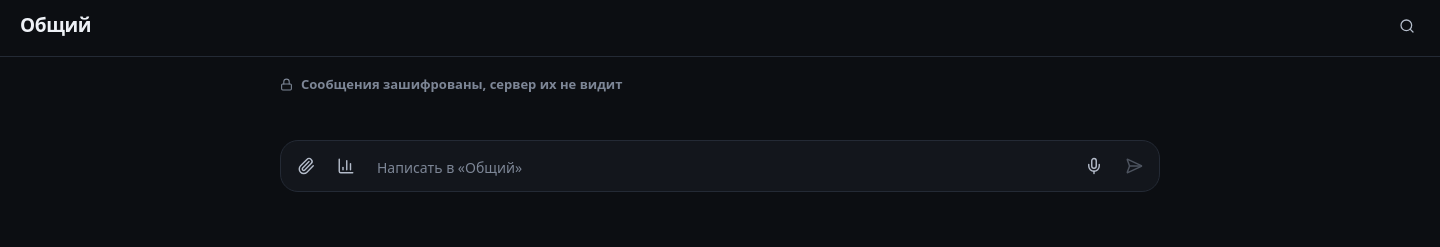
Test: mentions › Esc closes the list without dropping the text
Type "@В" into the text box.
click(720, 168); type("@В")  # box [367,150,1073,185]
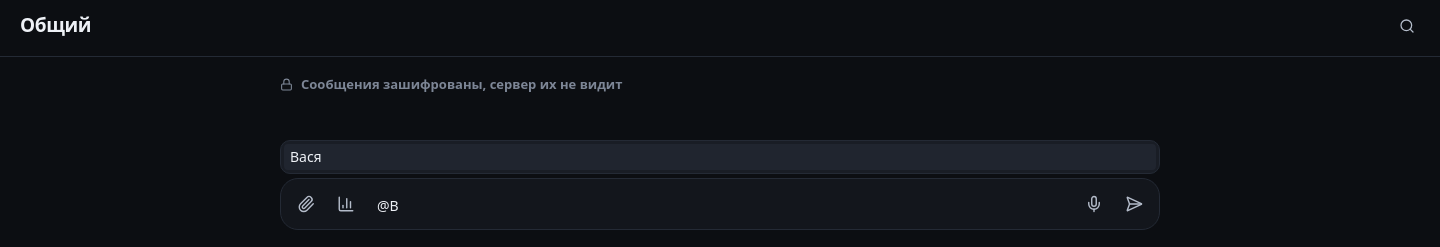
Press Escape in the text box, box [367,189,1073,223]
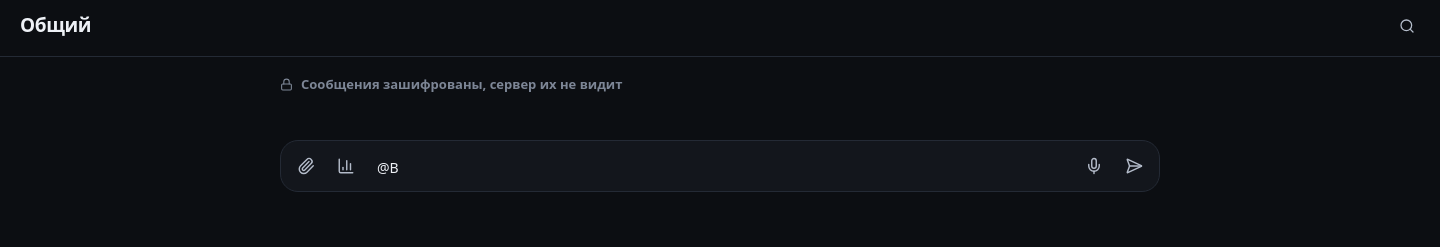
expect the list "Упомянуть" is gone: met
